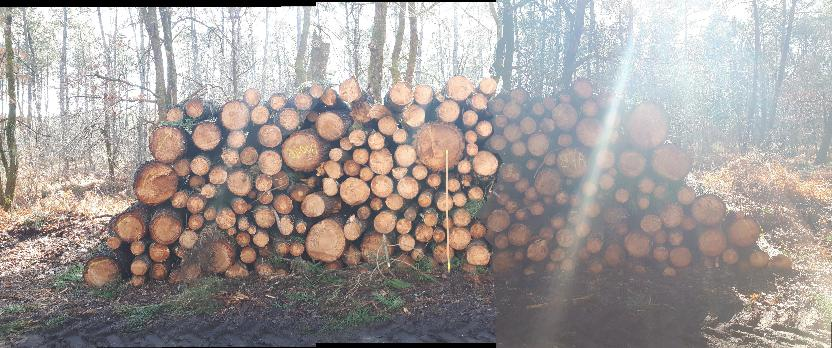etalon: (446, 150, 452, 268)
object: (413, 124, 465, 172), (626, 102, 670, 150), (134, 162, 178, 206), (304, 220, 346, 262), (650, 144, 694, 182), (284, 133, 320, 171), (690, 193, 728, 227), (150, 128, 186, 162), (82, 255, 118, 289), (198, 240, 232, 274), (149, 213, 183, 245), (114, 212, 146, 242), (727, 218, 761, 246), (556, 148, 586, 178), (223, 100, 251, 130), (192, 122, 222, 150), (363, 236, 393, 264), (698, 229, 728, 256), (316, 112, 344, 140), (342, 177, 370, 205), (626, 230, 654, 258), (578, 118, 604, 146), (618, 150, 644, 178), (535, 169, 563, 195), (552, 104, 578, 130), (447, 76, 473, 101), (370, 148, 394, 174), (258, 150, 282, 176), (228, 170, 252, 196), (492, 251, 518, 275), (506, 222, 530, 246), (466, 244, 490, 268), (472, 152, 498, 174), (661, 203, 684, 227), (339, 79, 361, 103), (370, 175, 393, 197), (258, 125, 282, 146), (528, 133, 550, 155), (302, 194, 324, 216), (488, 210, 510, 232), (374, 211, 396, 233), (604, 243, 624, 267), (404, 105, 426, 126), (390, 82, 412, 103), (440, 101, 460, 123), (399, 176, 419, 198), (449, 228, 469, 250), (670, 246, 692, 266), (596, 90, 618, 110), (768, 254, 794, 270), (350, 102, 370, 122), (280, 109, 300, 129), (396, 146, 416, 166), (596, 149, 616, 169), (502, 162, 522, 182), (255, 208, 275, 228), (528, 240, 548, 260), (574, 77, 594, 97), (414, 84, 434, 104), (748, 250, 770, 268), (642, 214, 662, 233), (150, 242, 171, 260), (435, 244, 456, 262), (226, 130, 246, 148), (192, 156, 210, 176), (453, 206, 471, 226), (218, 208, 236, 228), (555, 228, 573, 248), (226, 264, 248, 280), (186, 97, 204, 116), (379, 116, 397, 134), (291, 183, 309, 201), (275, 196, 293, 214), (582, 200, 600, 218), (416, 224, 434, 242), (502, 102, 522, 118), (250, 106, 270, 122), (385, 193, 405, 209), (604, 207, 624, 223), (344, 220, 360, 240), (149, 263, 169, 279), (322, 86, 338, 106), (394, 256, 416, 270), (678, 187, 696, 204), (221, 150, 240, 166), (509, 86, 528, 102), (166, 108, 184, 124), (604, 111, 622, 127), (520, 117, 538, 133), (476, 120, 494, 136), (506, 124, 522, 142), (242, 146, 258, 164), (325, 160, 341, 178), (210, 166, 226, 184), (274, 170, 290, 188), (638, 178, 656, 194), (172, 190, 188, 208), (438, 194, 454, 212), (181, 230, 197, 248), (344, 248, 360, 266), (480, 78, 498, 94), (244, 88, 262, 104), (188, 195, 204, 212), (400, 233, 416, 250), (270, 93, 286, 110), (280, 217, 294, 236), (583, 100, 599, 116), (368, 104, 384, 120), (392, 127, 408, 143), (350, 129, 366, 145), (491, 134, 507, 150), (353, 148, 369, 164), (174, 160, 190, 176), (256, 175, 272, 191), (188, 214, 204, 230), (550, 214, 566, 230), (538, 226, 554, 242), (586, 237, 602, 253), (240, 247, 256, 263), (551, 248, 567, 264), (722, 248, 738, 264), (296, 93, 312, 109), (568, 209, 583, 226), (370, 132, 384, 150), (130, 260, 148, 274), (540, 117, 555, 133), (582, 182, 598, 197), (471, 224, 487, 239), (471, 94, 487, 109), (324, 177, 338, 194), (606, 128, 620, 144), (344, 160, 360, 174), (414, 164, 428, 180), (654, 184, 668, 200), (468, 187, 484, 201), (556, 189, 570, 205), (418, 192, 432, 208), (253, 232, 269, 246), (258, 264, 274, 278), (128, 242, 146, 254), (511, 142, 526, 156), (600, 173, 614, 188), (516, 178, 531, 192), (559, 258, 574, 272), (233, 198, 246, 214), (492, 98, 506, 112), (464, 111, 478, 125), (494, 114, 508, 128), (259, 190, 273, 204), (425, 212, 439, 226), (682, 215, 696, 229), (398, 220, 412, 234), (576, 222, 590, 236), (237, 232, 251, 246), (260, 244, 274, 258), (654, 247, 668, 261), (326, 260, 340, 274), (458, 158, 470, 174), (393, 167, 409, 179), (190, 176, 206, 188), (497, 193, 511, 206), (653, 229, 667, 242), (291, 243, 305, 256), (203, 183, 215, 198), (302, 176, 318, 187), (587, 262, 603, 273), (559, 134, 573, 146), (341, 136, 353, 150), (362, 166, 374, 180), (428, 174, 442, 186), (525, 187, 539, 199), (615, 190, 629, 202), (357, 206, 371, 218), (404, 209, 418, 221), (616, 223, 630, 235), (668, 233, 682, 245), (496, 234, 508, 248), (106, 236, 120, 248), (424, 258, 438, 270), (132, 276, 146, 288), (312, 83, 324, 97), (544, 95, 556, 109), (448, 179, 460, 192), (454, 193, 466, 206), (466, 130, 478, 142), (467, 142, 479, 154), (330, 148, 342, 160), (506, 200, 518, 212), (532, 202, 544, 214), (204, 209, 216, 221), (278, 242, 290, 254), (546, 262, 558, 274), (317, 161, 327, 175), (738, 260, 752, 270), (632, 266, 646, 276), (534, 103, 546, 114), (544, 154, 556, 165), (526, 158, 537, 170), (665, 266, 676, 278), (435, 229, 445, 242), (571, 194, 581, 206), (542, 195, 554, 205), (638, 198, 650, 208), (372, 198, 382, 210), (516, 209, 526, 221), (238, 220, 250, 230), (297, 222, 307, 234), (581, 247, 591, 259), (412, 250, 424, 260), (703, 258, 715, 268), (357, 266, 369, 276), (560, 93, 572, 103), (249, 164, 260, 174), (308, 111, 318, 121), (444, 218, 454, 228), (248, 224, 258, 234), (524, 266, 534, 276), (736, 210, 744, 220), (514, 252, 524, 260), (276, 269, 286, 277), (247, 191, 256, 199), (609, 168, 617, 176), (227, 228, 235, 236), (524, 195, 530, 204), (498, 183, 505, 190), (596, 192, 604, 198), (247, 202, 253, 210), (566, 178, 572, 184)
pile: (78, 61, 798, 293)
